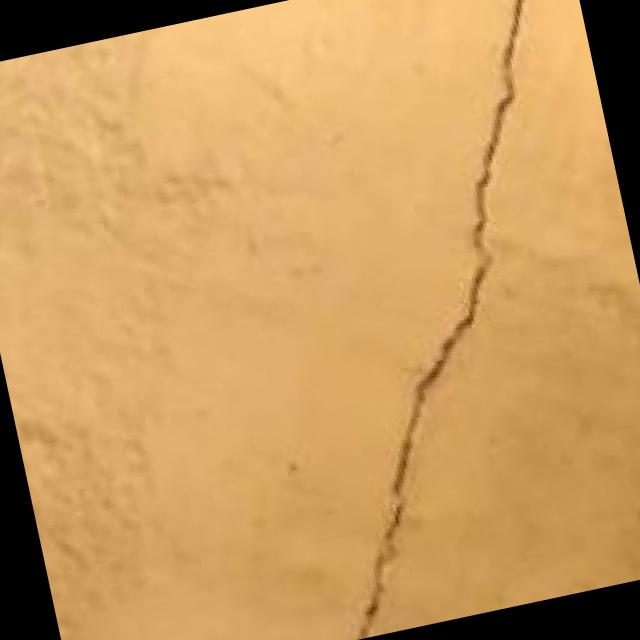crack: (213, 0, 640, 638)
